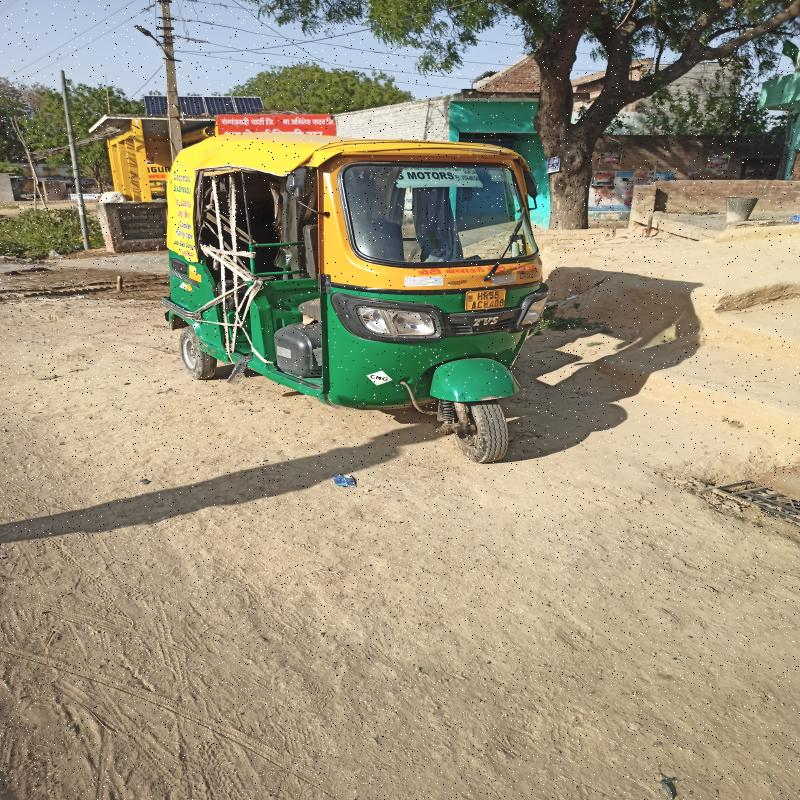auto: (172, 130, 549, 458)
